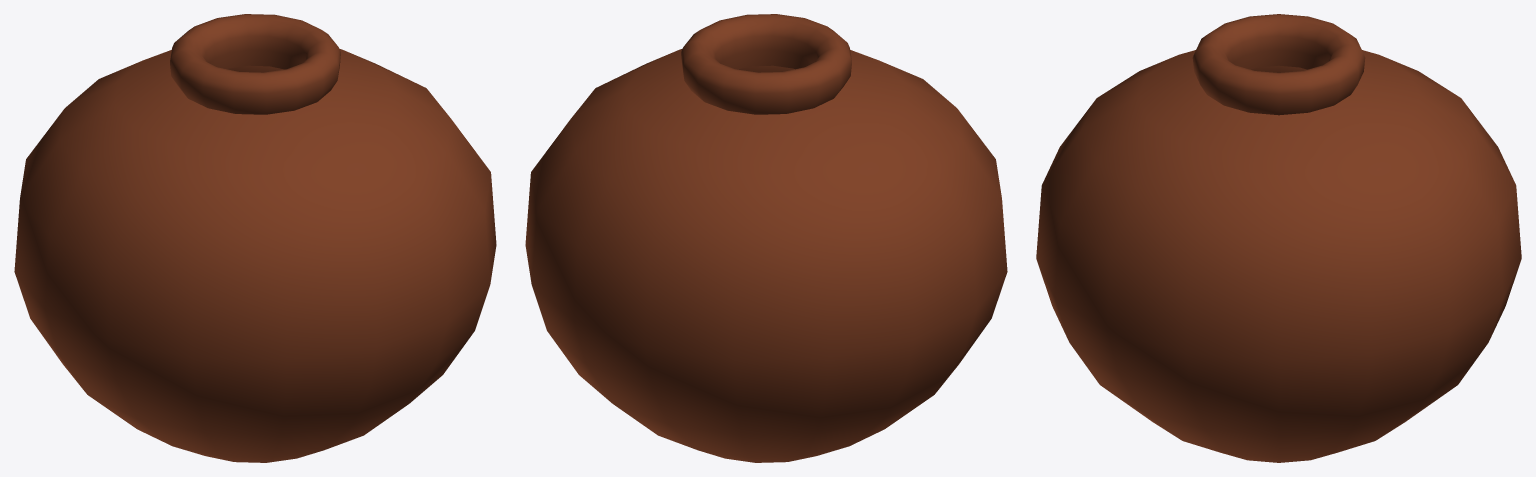
File: Pot_A.fbx
3 renders of one model, left to right at view 1: azimuth 30°, elevation 25°; view 2: azimuth 150°, elevation 25°; view 3: azimuth 270°, elevation 25°, orthographic.
Parts seen in each view (by area): view 1: Pot_A; view 2: Pot_A; view 3: Pot_A.
Part boxes in pixels (box(x1,y1,x2,y2)): Pot_A: box(14, 14, 496, 462); Pot_A: box(525, 14, 1007, 462); Pot_A: box(1036, 14, 1521, 462).
Bounding box in the file's own units: 92.54 × 80.58 × 92.54.
